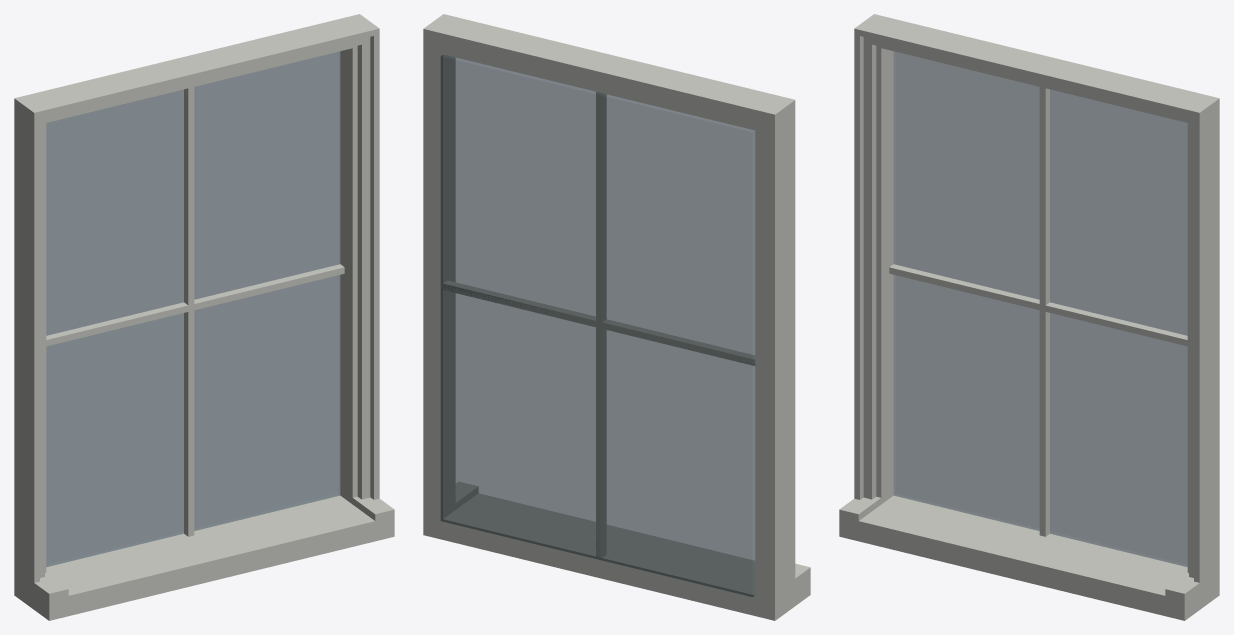
Rendered from clasico_rectangle.glb.
3 views of the same model, side by side, from view 1: azimuth 30°, elevation 25°; view 2: azimuth 150°, elevation 25°; view 3: azimuth 330°, elevation 25° (orthographic).
Visible parts, largest first — view 1: window_glass#0001, window_reveal#0001, window_sill#0001, window_profile#0020, window_mullion#0001, window_profile#0001, window_profile#0009, window_profile#0017, window_profile#0010, window_profile#0019, window_profile#0018, window_profile#0011 (+10 smaller); view 2: window_glass#0001, window_reveal#0001, window_profile#0020, window_mullion#0001, window_sill#0001, window_profile#0001; view 3: window_glass#0001, window_reveal#0001, window_sill#0001, window_profile#0020, window_mullion#0001, window_profile#0009, window_profile#0001, window_profile#0017, window_profile#0010, window_profile#0019, window_profile#0018, window_profile#0011 (+10 smaller).
Part boxes in pixels (<box>): window_glass#0001: <box>46,51,340,566</box>; window_reveal#0001: <box>14,14,370,602</box>; window_sill#0001: <box>21,494,394,620</box>; window_profile#0020: <box>24,22,379,582</box>; window_mullion#0001: <box>46,87,344,536</box>; window_profile#0001: <box>45,46,353,576</box>; window_profile#0009: <box>43,42,363,577</box>; window_profile#0017: <box>38,34,375,581</box>; window_profile#0010: <box>41,39,365,577</box>; window_profile#0019: <box>35,30,378,582</box>; window_profile#0018: <box>37,32,376,581</box>; window_profile#0011: <box>40,37,368,577</box>; window_glass#0001: <box>440,54,755,596</box>; window_reveal#0001: <box>423,20,786,620</box>; window_profile#0020: <box>434,14,795,611</box>; window_mullion#0001: <box>443,92,755,557</box>; window_sill#0001: <box>455,482,810,605</box>; window_profile#0001: <box>454,57,754,584</box>; window_glass#0001: <box>893,51,1187,566</box>; window_reveal#0001: <box>863,14,1219,603</box>; window_sill#0001: <box>839,494,1208,620</box>; window_profile#0020: <box>854,22,1208,609</box>; window_mullion#0001: <box>889,87,1187,536</box>; window_profile#0009: <box>870,42,1190,577</box>; window_profile#0001: <box>880,46,1188,572</box>; window_profile#0017: <box>858,34,1195,581</box>; window_profile#0010: <box>868,39,1192,577</box>; window_profile#0019: <box>855,30,1198,582</box>; window_profile#0018: <box>857,32,1196,581</box>; window_profile#0011: <box>865,37,1193,577</box>.
Bounding box in the file's own units: 1.6 × 2.2 × 0.3.
